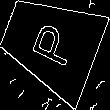P_NW: (24, 16, 77, 70)
